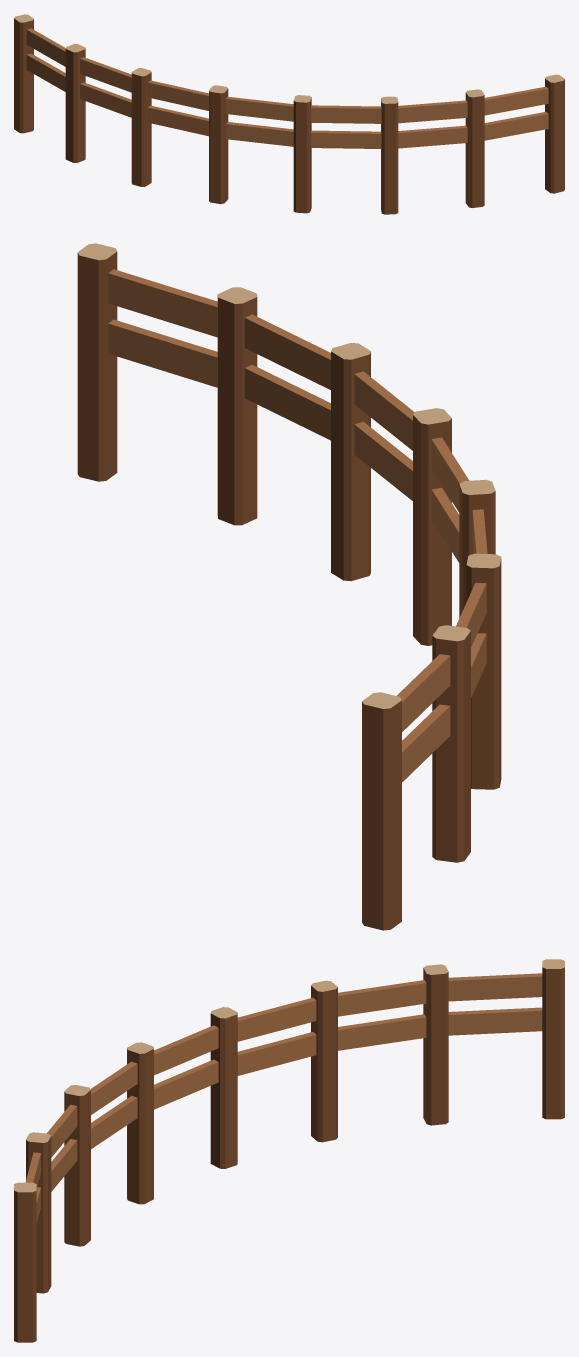
The model's file is Prop_Decorative_Fence_Curve_4x4.obj.
The picture shows the model from 3 angles, top to bottom: view 1: azimuth 30°, elevation 25°; view 2: azimuth 150°, elevation 25°; view 3: azimuth 270°, elevation 25°; orthographic projection. The views are drawn at different scales.
Parts seen in each view (by area): view 1: Fence_Post_Side, Fence_Rail, Fence_Post_Top; view 2: Fence_Post_Side, Fence_Rail, Fence_Post_Top; view 3: Fence_Post_Side, Fence_Rail, Fence_Post_Top.
Boxes of the visible parts, bbox=[...] form: Fence_Post_Side: bbox=[14, 18, 564, 214]; Fence_Rail: bbox=[26, 28, 548, 148]; Fence_Post_Top: bbox=[14, 14, 564, 103]; Fence_Post_Side: bbox=[77, 252, 501, 930]; Fence_Rail: bbox=[108, 269, 487, 782]; Fence_Post_Top: bbox=[77, 243, 501, 708]; Fence_Post_Side: bbox=[14, 967, 564, 1342]; Fence_Rail: bbox=[25, 973, 542, 1222]; Fence_Post_Top: bbox=[14, 959, 564, 1192].
Size of the model in its own units: 3.65 by 1.1 by 3.65.
